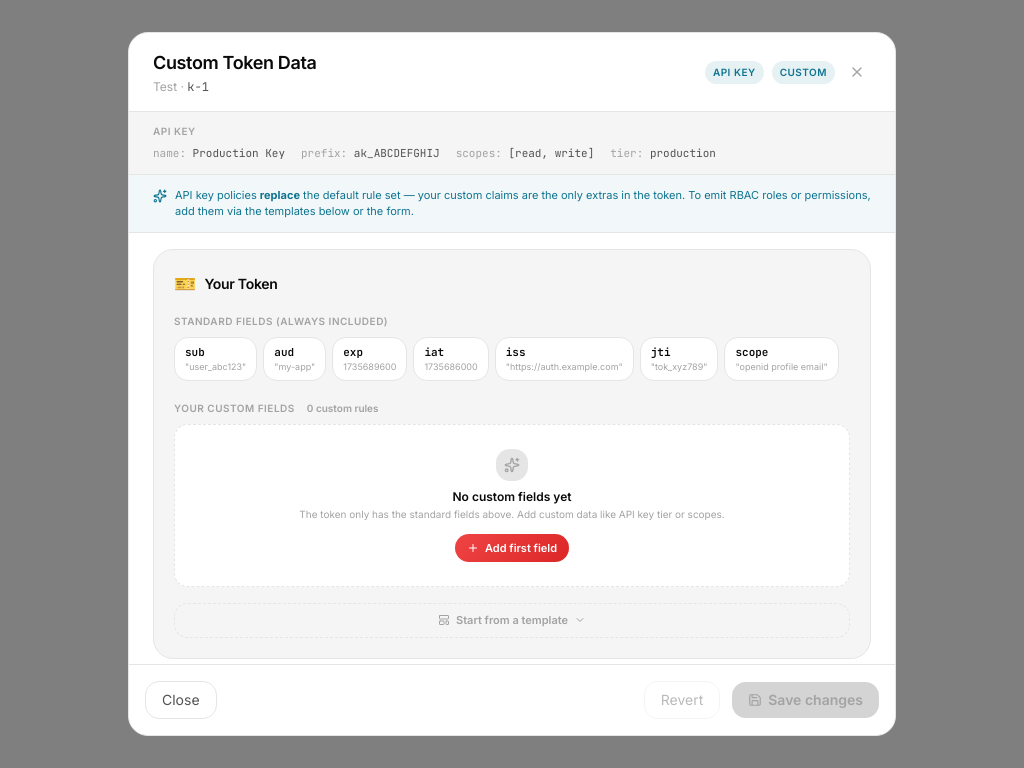
Test: ApiKeyClaimsTab - claim name validation › accepts an OIDC standard claim name (green status)
Click the button with test id "api-key-claim-policy-add-btn" at (512, 548), box [455,534,569,562]
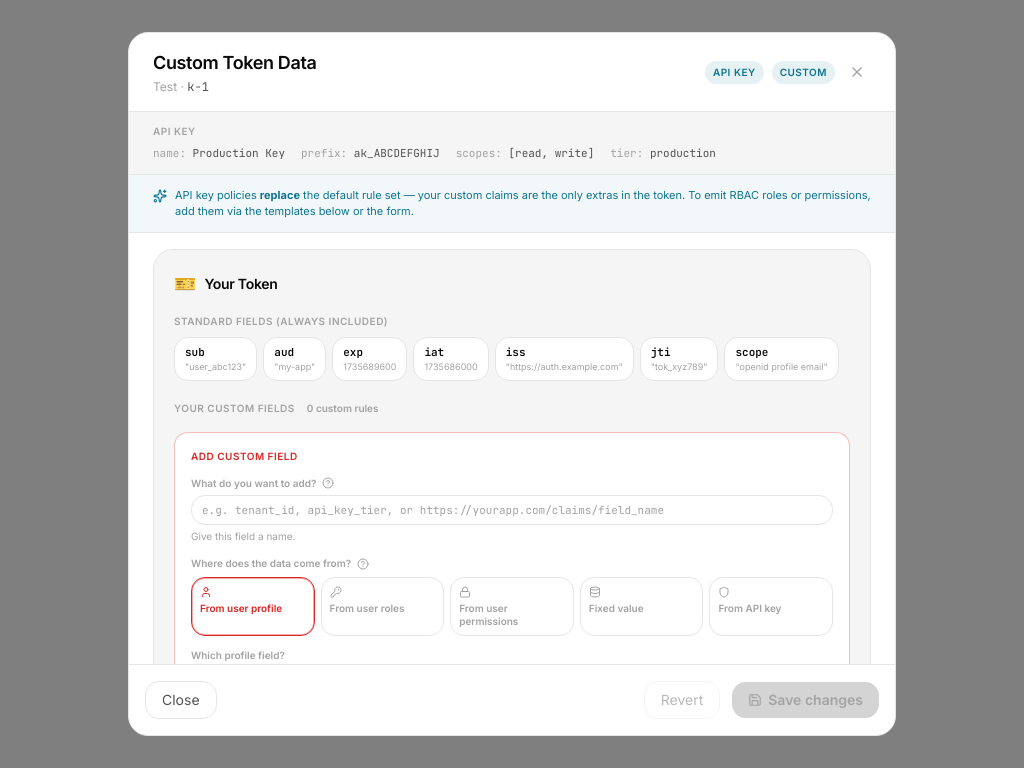
Replace the text in the field with test id "api-key-claim-name-input" with "email" at (512, 510), box [191,494,833,525]
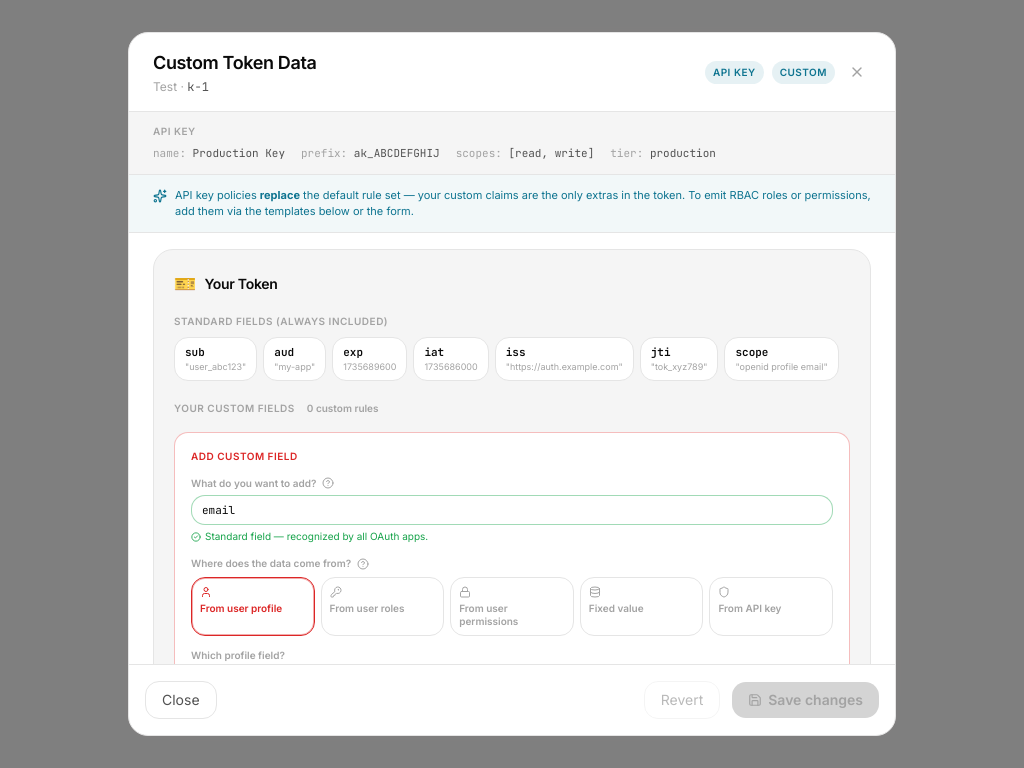
Result: the element with test id "api-key-claim-name-status" shows "Standard field" at [205,530,428,542]
